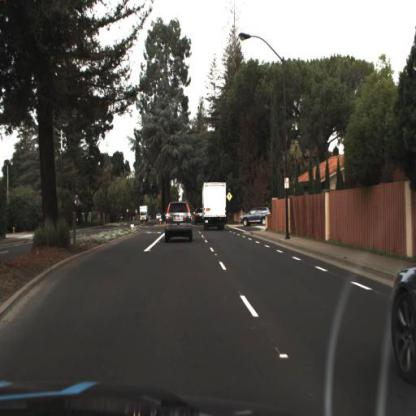car: (388, 243, 416, 404), (161, 194, 197, 252), (199, 179, 233, 233), (241, 205, 271, 228), (242, 208, 271, 224), (138, 202, 152, 227), (157, 215, 162, 222)
truck: (204, 180, 229, 231), (141, 207, 146, 223)
